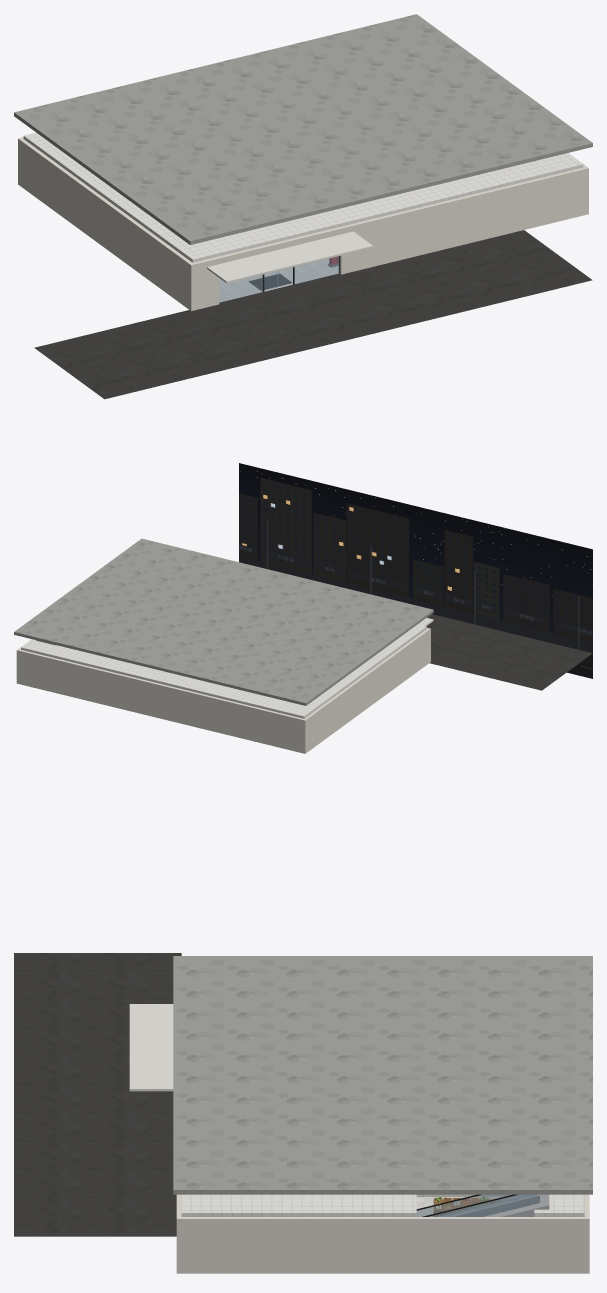
File: mart.glb
3 renders of one model, top to bottom at view 1: azimuth 30°, elevation 25°; view 2: azimuth 150°, elevation 25°; view 3: azimuth 270°, elevation 25°, orthographic. The views are drawn at different scales.
Parts seen in each view (by area): view 1: Mesh~27, Mesh~47, Mesh~23, Mesh~25, Mesh~48, Mesh~22, Mesh~3, Mesh~2; view 2: Mesh~27, Mesh~46, Mesh~23, Mesh~47, Mesh~25; view 3: Mesh~27, Mesh~47, Mesh~23, Mesh~25, Mesh~48, Mesh~117, Mesh~115, Mesh~40.
Boxes of the visible parts, x1,y1,x2,y2 form: Mesh~27: (14, 14, 592, 244); Mesh~47: (34, 230, 592, 399); Mesh~23: (18, 137, 588, 311); Mesh~25: (23, 132, 583, 262); Mesh~48: (207, 231, 373, 283); Mesh~22: (219, 258, 338, 301); Mesh~3: (294, 256, 339, 283); Mesh~2: (219, 275, 262, 302); Mesh~27: (14, 538, 433, 705); Mesh~46: (239, 463, 592, 678); Mesh~23: (16, 627, 430, 753); Mesh~47: (426, 614, 592, 690); Mesh~25: (21, 624, 426, 718); Mesh~27: (173, 956, 592, 1194); Mesh~47: (14, 953, 181, 1236); Mesh~23: (176, 1194, 589, 1273); Mesh~25: (181, 1194, 584, 1216); Mesh~48: (129, 1004, 173, 1091); Mesh~117: (428, 1194, 539, 1216); Mesh~115: (416, 1194, 534, 1216); Mesh~40: (440, 1194, 549, 1216).
Size of the model in its own units: 45.5 by 14 by 34.5.
Materials: 75 (47 with a texture image).
